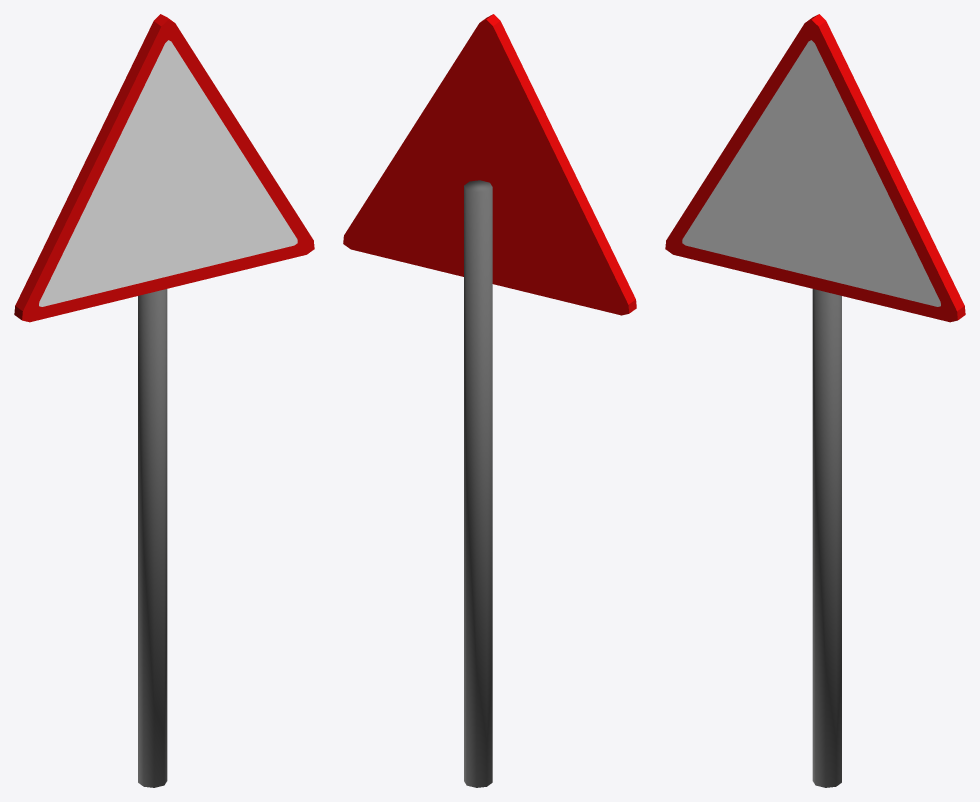
File: Prop_StreetSign_Empty.fbx
3 renders of one model, left to right at view 1: azimuth 30°, elevation 25°; view 2: azimuth 150°, elevation 25°; view 3: azimuth 330°, elevation 25°, orthographic. The views are drawn at different scales.
Visible parts, largest first — view 1: Prop_StreetSign_Empty; view 2: Prop_StreetSign_Empty; view 3: Prop_StreetSign_Empty.
Part boxes in pixels (x1,y1,x2,y2): Prop_StreetSign_Empty: (14, 14, 314, 787); Prop_StreetSign_Empty: (343, 14, 636, 787); Prop_StreetSign_Empty: (665, 14, 965, 787).
Bounding box in the file's own units: 166 × 420 × 22.23.
